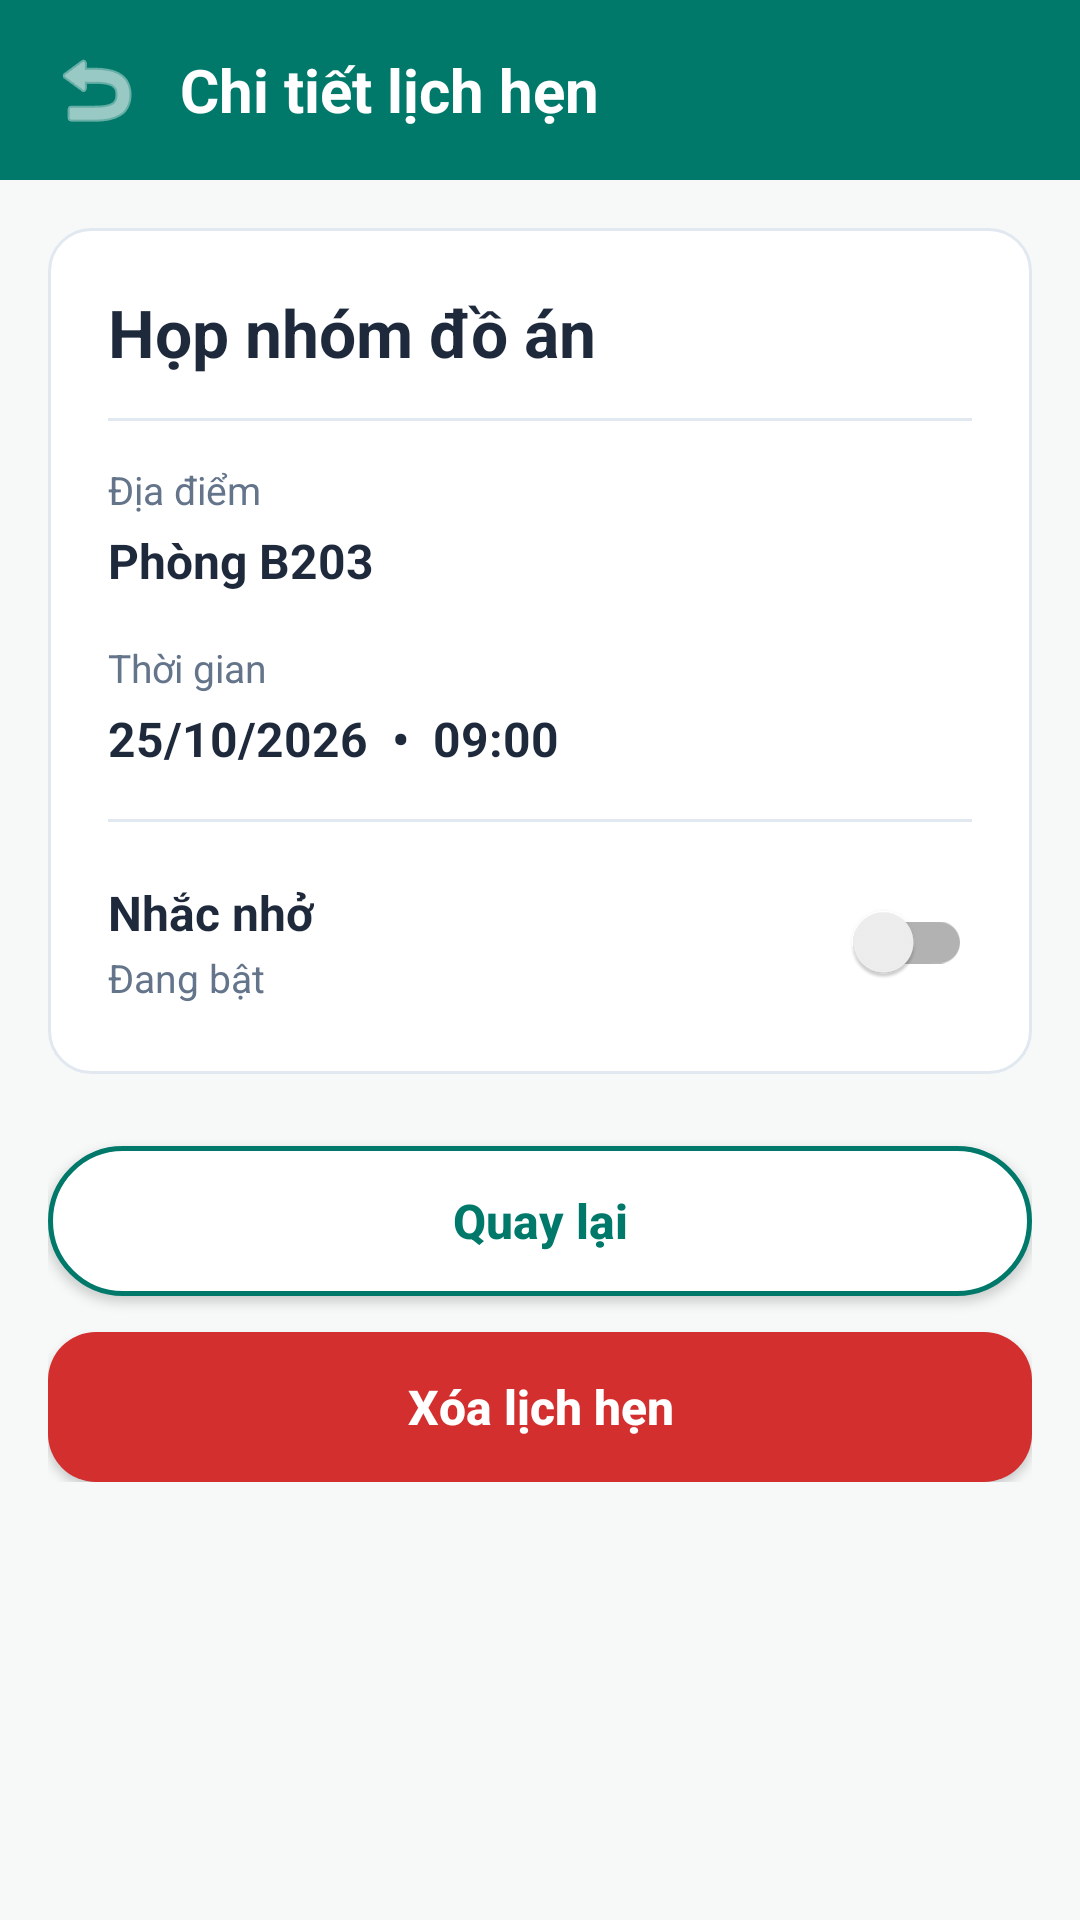

Point at icon controls on the screen. Image size 1080 × 1920, points as [x,y].
Quay lại: [97,90]
